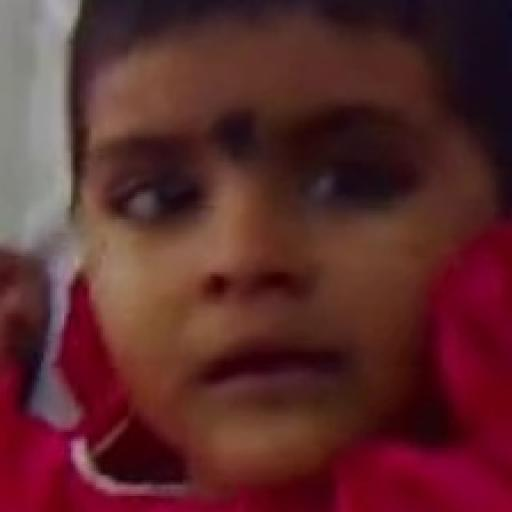Autism: (53, 14, 485, 498)
